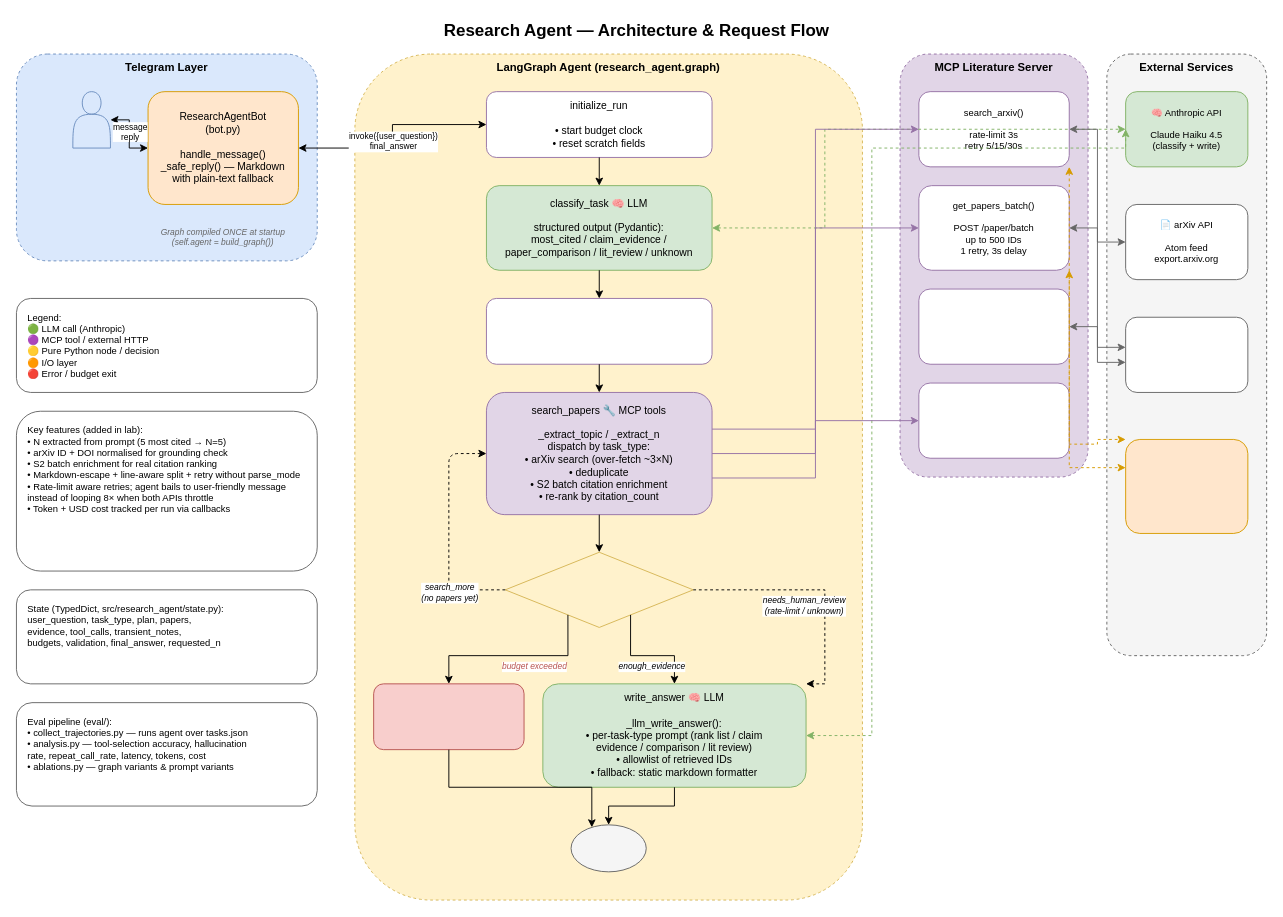
Some shapes in this 1283 by 917 pixel diagram are drawn without their labels. Each missing label, with the centre of its shape:
deduplicate_papers() DOI / arXiv / norm-title: point 993,420
END: point 608,848
get_paper() single-paper lookup (used for paper_comparison): point 993,326
plan_search static plan template (placeholder, no LLM): point 599,331
stop_with_budget wall-clock / iterations exceeded: point 448,716
validate_evidence: point 598,589
👤 Telegram User: point 91,119
💾 RequestCache SQLite keyed by request hash (arxiv + s2 + s2_batch): point 1186,486
📚 Semantic Scholar API graph/v1/paper + /paper/batch: point 1186,354
